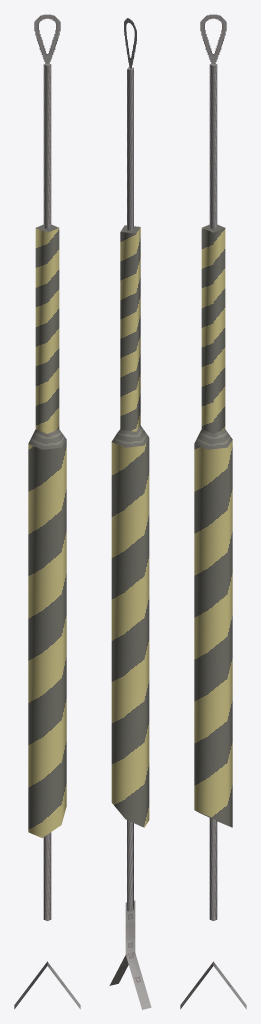
File: 0450_Tel._Pole_Brace.glb
The picture shows the model from 3 angles, left to right: view 1: azimuth 90°, elevation 25°; view 2: azimuth 210°, elevation 25°; view 3: azimuth 270°, elevation 25°; orthographic projection.
Visible parts, largest first — view 1: part_0; view 2: part_0; view 3: part_0.
Part boxes in pixels (x1,y1,x2,y2): part_0: (14,14,80,1009); part_0: (109,18,151,1009); part_0: (180,14,246,1009).
Bounding box in the file's own units: 0.1252 × 3.56 × 0.216.
Materials: 1 (1 with a texture image).
